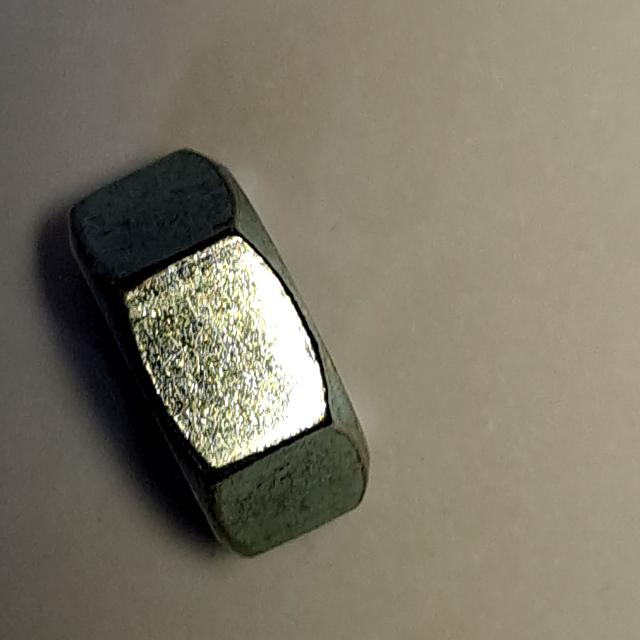Side_Excellent: (51, 130, 394, 570)
